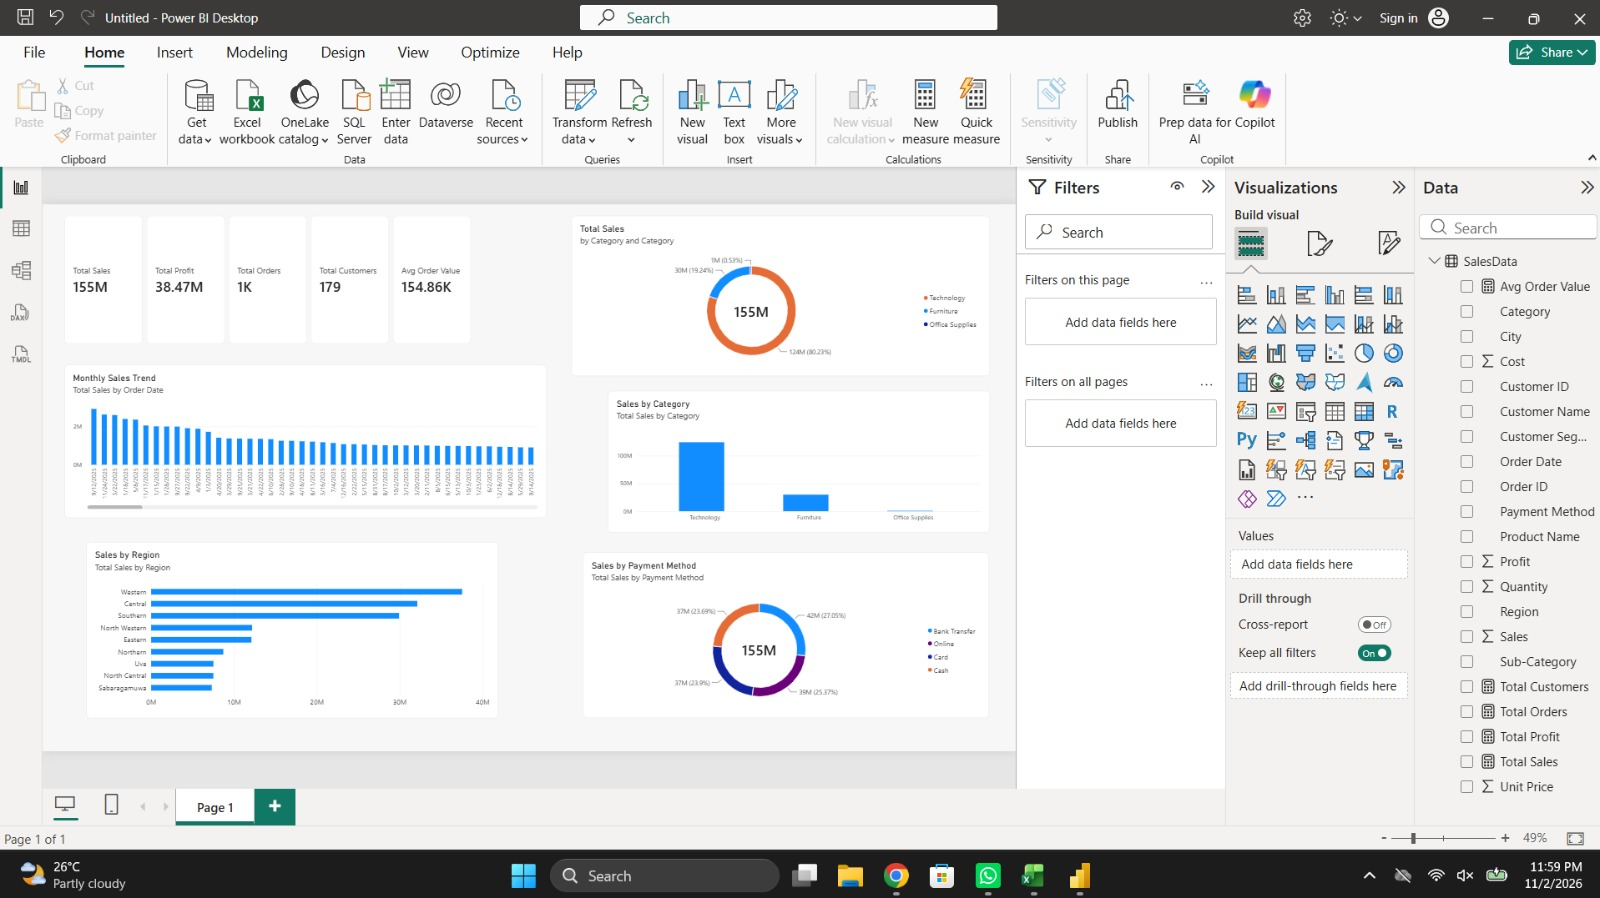

The dashboard page shown, as its layout file describes it:
{"tool":"powerbi","page":{"name":"Page 1","canvas":[1920,1080],"ordinal":0},"visuals":[{"type":"cardVisual","fields":{"Data":["SalesData.Total Sales","SalesData.Total Profit","SalesData.Total Orders","SalesData.Total Customers","SalesData.Avg Order Value"]},"box":[349.3,86.9,1550.9,155.6],"z":0},{"type":"lineChart","title":"Monthly Sales Trend","fields":{"Category":["SalesData.Order Date"],"Y":["SalesData.Total Sales"]},"box":[94.1,646,942.8,374.6],"z":1000},{"type":"clusteredColumnChart","title":"Sales by Category","fields":{"Category":["SalesData.Category"],"Y":["SalesData.Total Sales"]},"box":[1146.5,646.3,714.2,345.8],"z":2000},{"type":"clusteredBarChart","title":"Sales by Region","fields":{"Category":["SalesData.Region"],"Y":["SalesData.Total Sales"]},"box":[349.3,264.2,539.3,352.9],"z":3000},{"type":"pieChart","title":"Sales by Payment Method","fields":{"Category":["SalesData.Payment Method"],"Y":["SalesData.Total Sales"]},"box":[944.6,264.2,479.6,352.9],"z":4000},{"type":"pieChart","fields":{"Category":["SalesData.Category"],"Y":["SalesData.Total Sales"]},"box":[1467.6,264.2,432.5,352.9],"z":5000},{"type":"slicer","fields":{"Values":["SalesData.Year"]},"box":[16.3,539.3,267.8,77.8],"z":6000},{"type":"slicer","fields":{"Values":["SalesData.Region","SalesData.Region"]},"box":[0,47.1,284,491.9],"z":7000},{"type":"textbox","box":[385.5,21.7,622.5,52.5],"z":8000}]}

Visuals, with their boxes on the page's 1920x1080 design canvas (x1, y1, x2, y2). These are canvas units, not pixel positions in the 1600x898 screenshot, which may show the page scaled, cropped or inside an application window:
cardVisual - SalesData.Total Sales x SalesData.Total Profit: [349, 87, 1900, 242]
"Monthly Sales Trend" lineChart: [94, 646, 1037, 1021]
"Sales by Category" clusteredColumnChart: [1146, 646, 1861, 992]
"Sales by Region" clusteredBarChart: [349, 264, 889, 617]
"Sales by Payment Method" pieChart: [945, 264, 1424, 617]
pieChart - SalesData.Category x SalesData.Total Sales: [1468, 264, 1900, 617]
slicer - SalesData.Year: [16, 539, 284, 617]
slicer - SalesData.Region x SalesData.Region: [0, 47, 284, 539]
textbox: [386, 22, 1008, 74]
